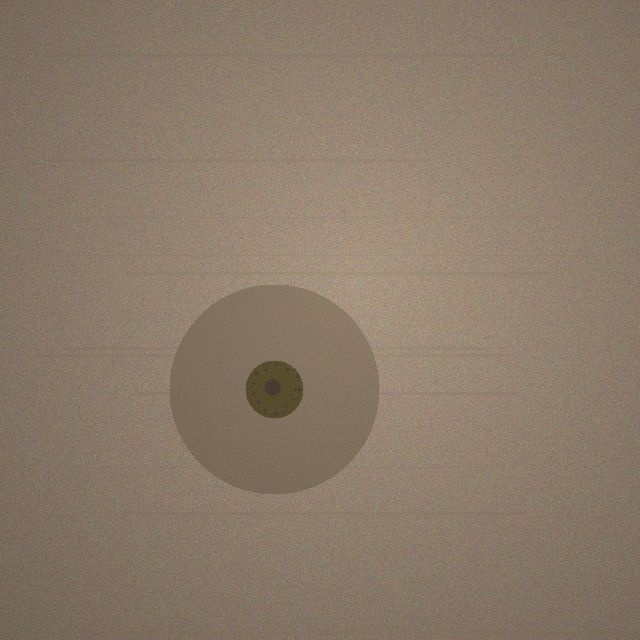cold_weld: (169, 284, 379, 494)
